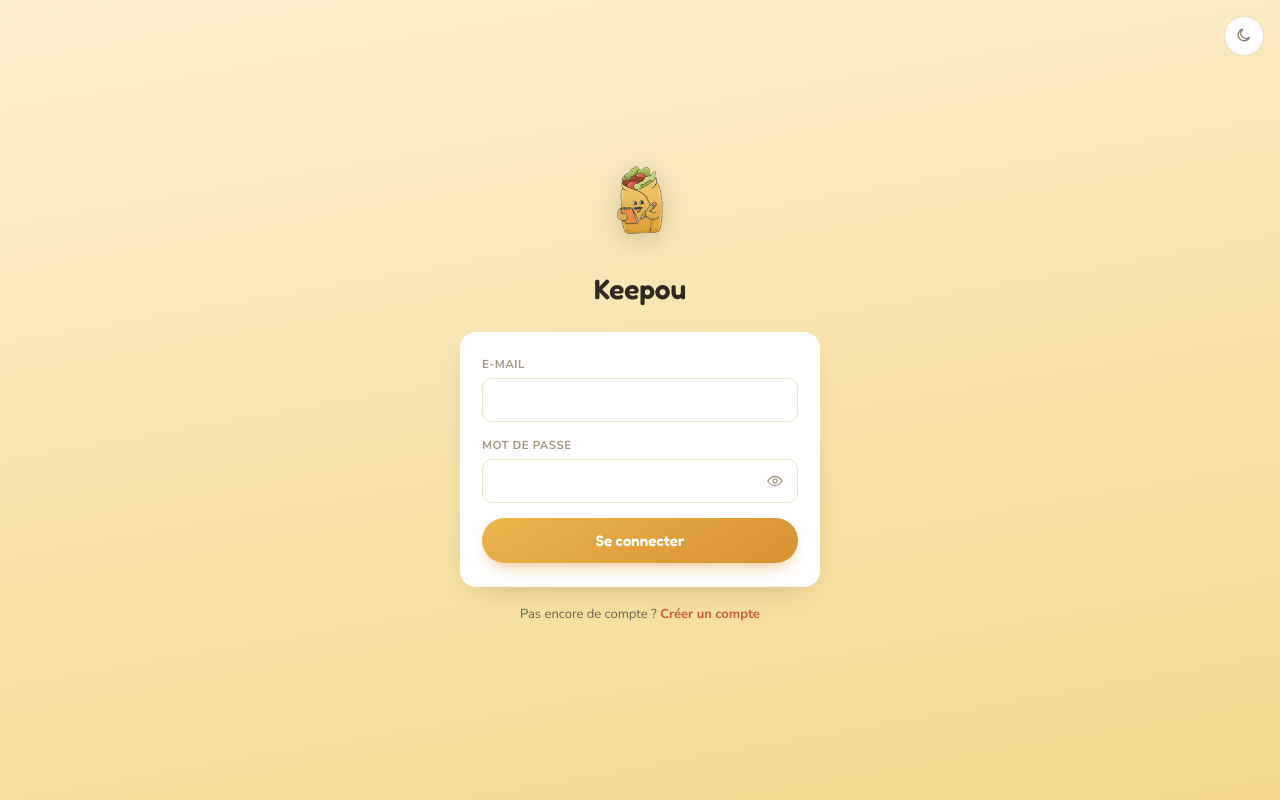
Test: LoginPage › shows the terracotta inline error on bad credentials (401)
Type "marie@famille-ou.fr" into the field labelled "E-mail" at {"x": 640, "y": 400}, box [496,379,784,421]
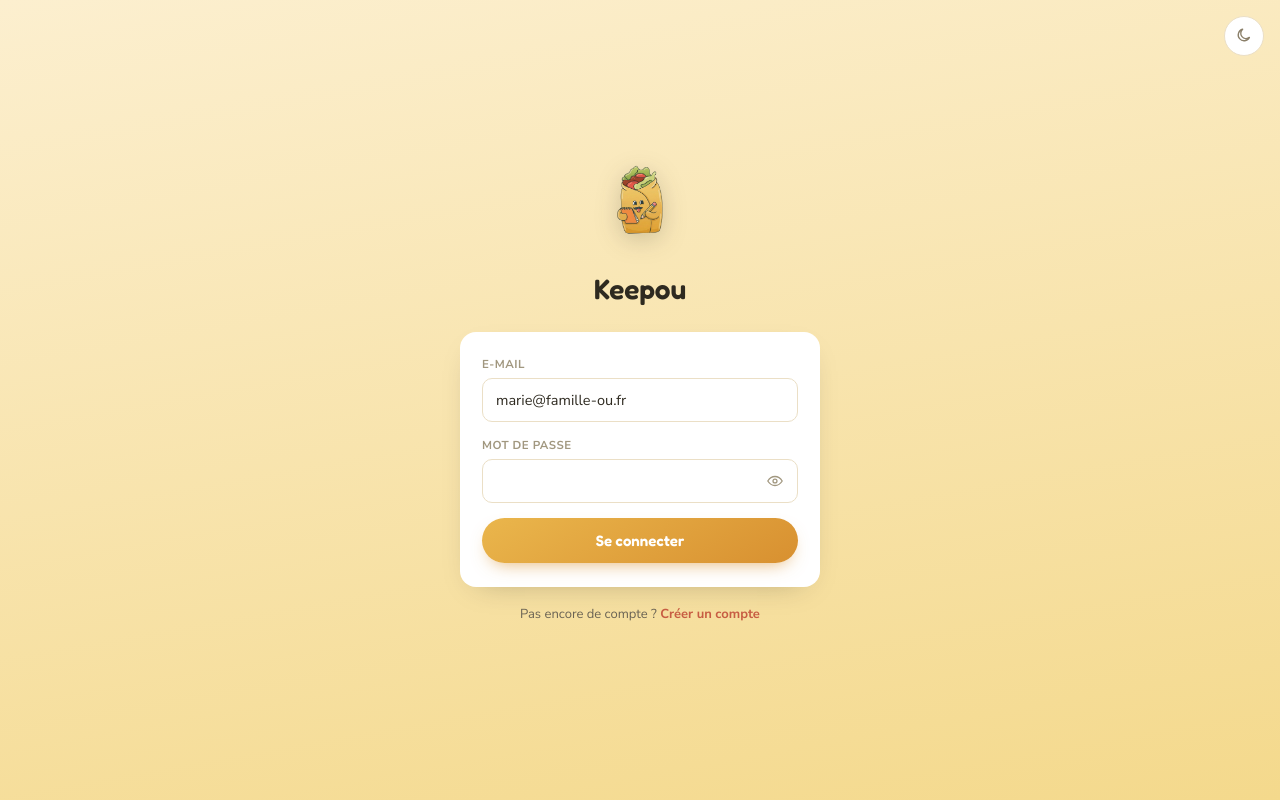
Type "mauvais" into the password field labelled "Mot de passe" at {"x": 624, "y": 481}, box [496,460,753,502]
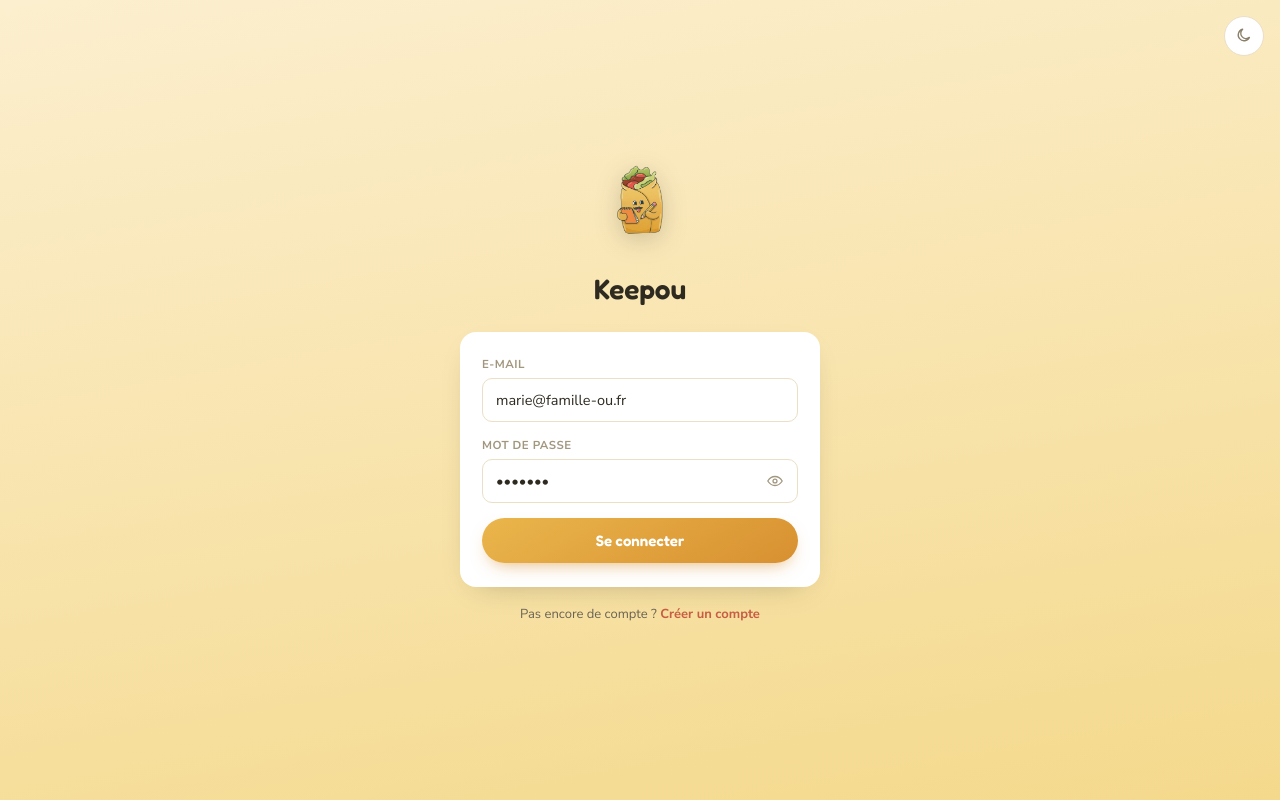
Click the button "Se connecter" at {"x": 640, "y": 541}, box [482,518,798,563]
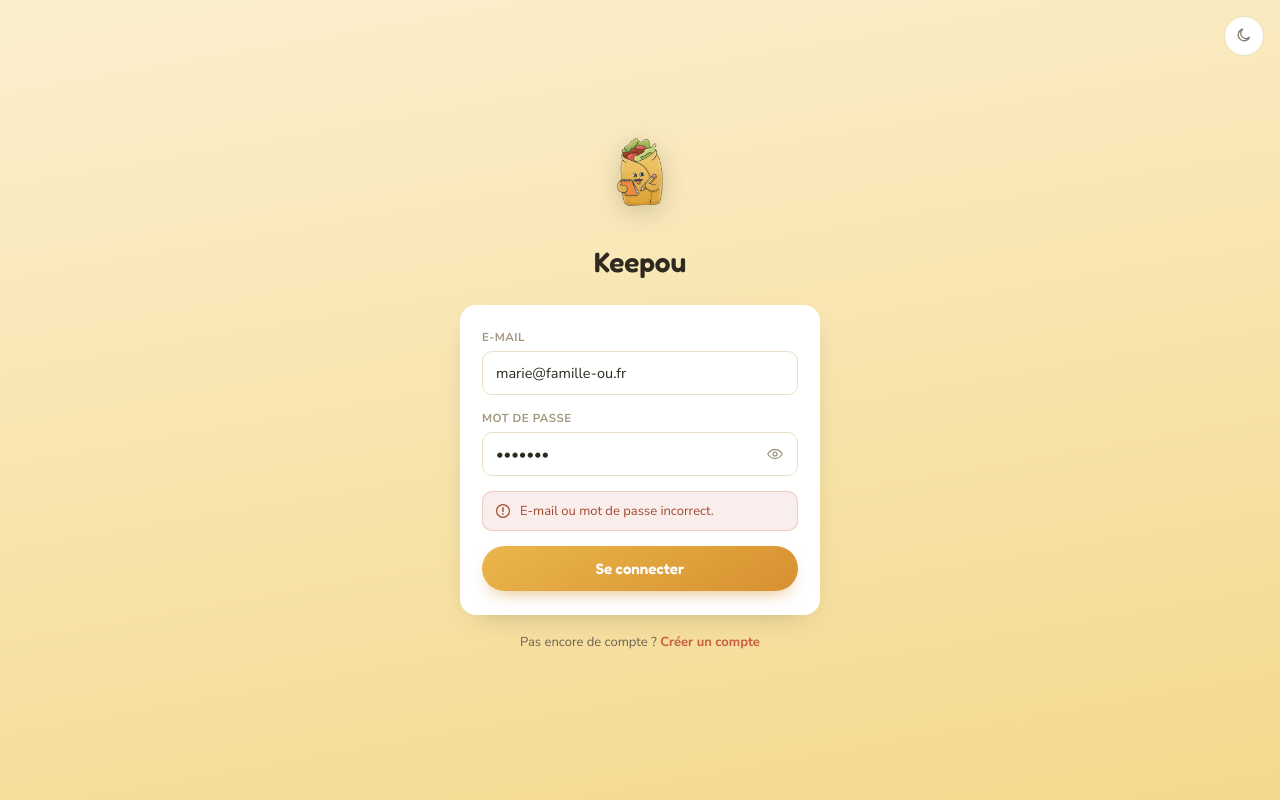
Expected: the message reads "E-mail ou mot de passe incorrect.", [520,502,714,520]
